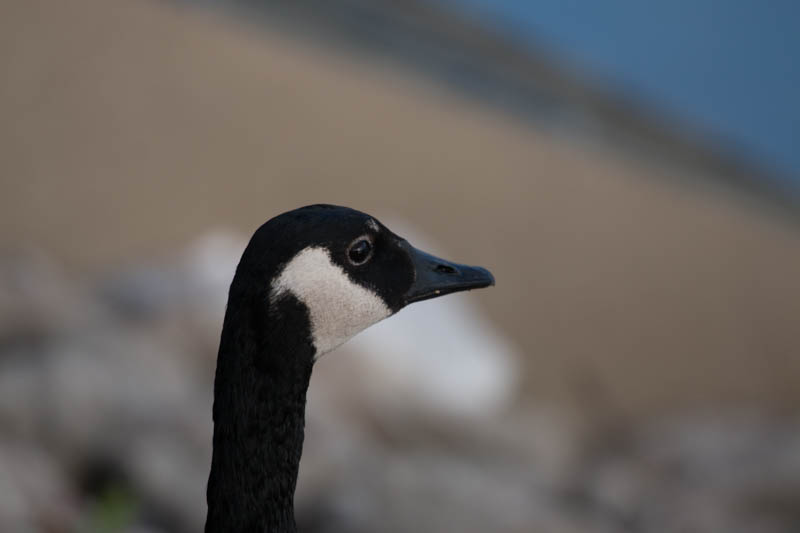goose-head: (224, 203, 496, 363)
